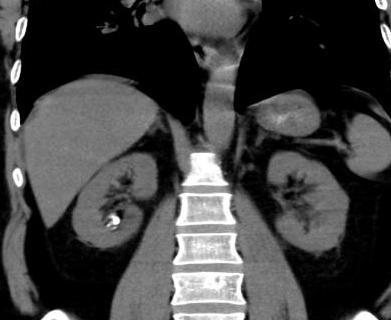Tas_Var: (111, 216, 121, 227), (106, 223, 111, 228), (112, 226, 118, 230), (112, 214, 115, 219)
